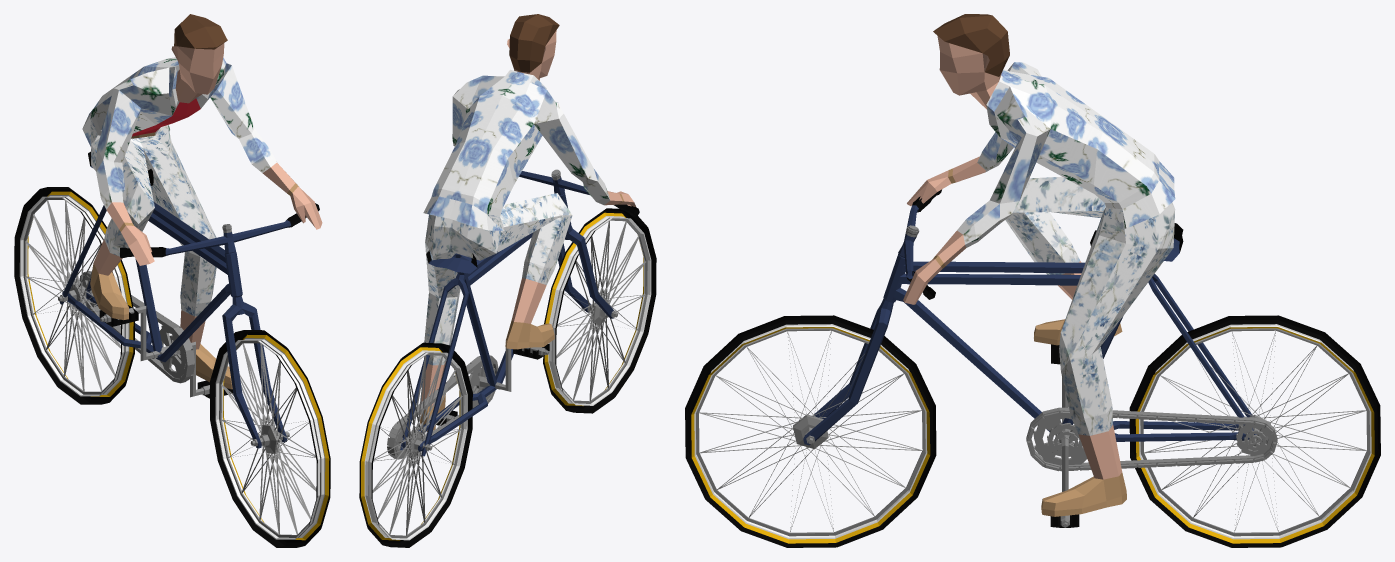
The model's file is SpringManC.001.glb.
3 renders of one model, left to right at view 1: azimuth 30°, elevation 25°; view 2: azimuth 150°, elevation 25°; view 3: azimuth 270°, elevation 25°, orthographic. The views are drawn at different scales.
Parts seen in each view (by area): view 1: SpringManC.001; view 2: SpringManC.001; view 3: SpringManC.001.
Boxes of the visible parts, x1,y1,x2,y2 form: SpringManC.001: (14,14,330,547); SpringManC.001: (359,14,656,547); SpringManC.001: (685,14,1380,547).
Bounding box in the file's own units: 0.7301 × 1.66 × 1.97.
Materials: 6 (1 with a texture image).
